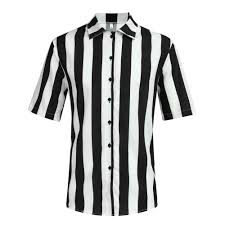striped: (31, 12, 193, 220)
